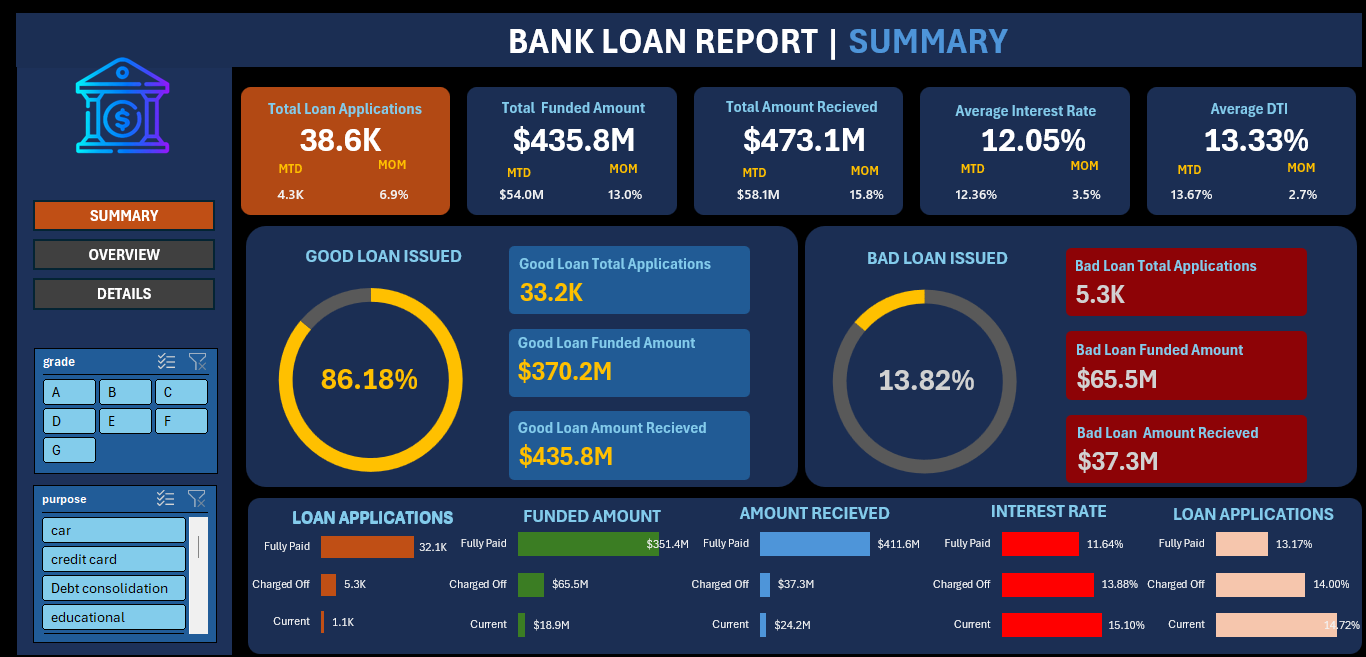

Layout of this report page (visuals, bound fields, positions):
{"tool":"powerbi","page":{"name":"Summary","canvas":[1920,1080],"ordinal":0},"visuals":[{"type":"shape","box":[0,0,1274.6,55.7],"z":0},{"type":"shape","box":[639.3,56,192.8,124],"z":0,"group":"g3"},{"type":"shape","box":[859.7,56,192.8,124],"z":0,"group":"g4"},{"type":"shape","box":[198.5,56.9,195,126.4],"z":0,"group":"g1"},{"type":"shape","box":[413,58,192.8,124],"z":0,"group":"g2"},{"type":"shape","box":[1080.3,58.1,193.1,124],"z":0,"group":"g5"},{"type":"cardVisual","fields":{"Data":["bank_loan_data.Total Funded Amount"]},"box":[437.2,76.9,162.4,40.7],"z":1000,"group":"g2"},{"type":"cardVisual","fields":{"Data":["bank_loan_data.Avg DTI"]},"box":[1098.9,78,158,50.5],"z":1000,"group":"g5"},{"type":"cardVisual","fields":{"Data":["bank_loan_data.Total Amount Received"]},"box":[658.9,78.3,158.2,40.3],"z":1000,"group":"g3"},{"type":"cardVisual","fields":{"Data":["bank_loan_data.Total Loan Applications"]},"box":[230.9,78.8,122.6,41.2],"z":1000,"group":"g1"},{"type":"cardVisual","fields":{"Data":["bank_loan_data.Avg Interest Rate"]},"box":[876.3,84.9,157.7,40.3],"z":1000,"group":"g4"},{"type":"shape","box":[201.5,195.4,522,260],"z":1000},{"type":"shape","box":[0,54.7,192,665],"z":2000},{"type":"textbox","box":[437.3,56.6,174.8,32],"z":2000,"group":"g2"},{"type":"textbox","box":[657.7,60.2,174.8,32],"z":2000,"group":"g3"},{"type":"textbox","box":[878.1,60.2,174.8,32],"z":2000,"group":"g4"},{"type":"textbox","box":[1115.8,60.4,123.1,24.4],"z":2000,"group":"g5"},{"type":"textbox","box":[217.1,61.2,176.7,32.7],"z":2000,"group":"g1"},{"type":"cardVisual","title":"MTD","fields":{"Data":["bank_loan_data.MTD Funded Amount"]},"box":[417.1,120.6,100.1,56.8],"z":3000,"group":"g2"},{"type":"cardVisual","title":"MTD","fields":{"Data":["bank_loan_data.MTD Total Amount Received"]},"box":[637.5,124.2,100.1,56.8],"z":3000,"group":"g3"},{"type":"cardVisual","title":"MTD","fields":{"Data":["bank_loan_data.MTD Avg Int Rate"]},"box":[857.9,124.2,100.1,56.8],"z":3000,"group":"g4"},{"type":"cardVisual","title":"MTD","fields":{"Data":["bank_loan_data.MTD Loan Applications"]},"box":[216.6,125.3,71.1,58.8],"z":3000,"group":"g1"},{"type":"cardVisual","title":"MTD","fields":{"Data":["bank_loan_data.MTD Avg DTI"]},"box":[1078.4,126.3,100.2,56.8],"z":3000,"group":"g5"},{"type":"cardVisual","fields":{"Data":["bank_loan_data.Good Loan %"]},"box":[243.1,310.8,141.1,48.9],"z":3000},{"type":"textbox","box":[416.7,7.8,492.2,46.7],"z":4000},{"type":"cardVisual","title":"MOM","fields":{"Data":["bank_loan_data.MoM Total Funded Amount"]},"box":[526.4,122.4,75.3,58.1],"z":4000,"group":"g2"},{"type":"cardVisual","title":"MOM","fields":{"Data":["bank_loan_data.MoM Loan Application"]},"box":[305.5,125.3,68.9,55.2],"z":4000,"group":"g1"},{"type":"cardVisual","title":"MOM","fields":{"Data":["bank_loan_data.MoM Total Amount Recieved"]},"box":[746.9,125.9,75.3,58.1],"z":4000,"group":"g3"},{"type":"cardVisual","title":"MOM","fields":{"Data":["bank_loan_data.MoM Avg Int Rate"]},"box":[967.3,125.9,75.3,58.1],"z":4000,"group":"g4"},{"type":"cardVisual","title":"MOM","fields":{"Data":["bank_loan_data.MoM Avg DTI"]},"box":[1187.9,128,75.5,58.1],"z":4000,"group":"g5"},{"type":"donutChart","fields":{"Category":["bank_loan_data.Good v Bad Loan"],"Y":["bank_loan_data.Total Loan Applications"]},"box":[187.7,220,250,230],"z":5000},{"type":"group","id":"g1","title":"Group 1","box":[198.5,56.9,195.4,128],"z":6000},{"type":"group","id":"g2","title":"Group 1","box":[413,56.6,199.1,125.5],"z":7000},{"type":"group","id":"g3","title":"Group 1","box":[637.5,56,195,128],"z":8000},{"type":"group","id":"g4","title":"Group 1","box":[857.9,56,195,128],"z":9000},{"type":"group","id":"g5","title":"Group 1","box":[1078.4,58.1,195,128],"z":10000},{"type":"shape","box":[753.8,195.4,522,260],"z":11000},{"type":"textbox","box":[221.5,210.8,198.5,40],"z":12000},{"type":"cardVisual","fields":{"Data":["bank_loan_data.Good Loan Applications","bank_loan_data.Good Loan Funded Amount","bank_loan_data.Good Loan Revceived Amount"]},"box":[429.2,196.9,293.8,258.5],"z":13000},{"type":"donutChart","fields":{"Category":["bank_loan_data.Good v Bad Loan"],"Y":["bank_loan_data.Total Loan Applications"]},"box":[755.4,220,250,230],"z":14000},{"type":"textbox","box":[786.2,210.8,203.1,40],"z":15000},{"type":"cardVisual","fields":{"Data":["bank_loan_data.Bad Loan %"]},"box":[809.2,310.8,141.1,48.9],"z":16000},{"type":"shape","box":[198.8,465.4,1077.8,254.3],"z":17000},{"type":"cardVisual","fields":{"Data":["bank_loan_data.Bad Loan Applications","bank_loan_data.Bad Loan Funded Amount","bank_loan_data.Bad Loan Revceived Amount"]},"box":[981.5,195.4,293.8,258.5],"z":18000},{"type":"tableEx","fields":{"Values":["bank_loan_data.loan_status","bank_loan_data.Total Loan Applications","bank_loan_data.Total Funded Amount","bank_loan_data.Total Amount Received","bank_loan_data.MTD Funded Amount","bank_loan_data.MTD Total Amount Received","bank_loan_data.Avg Interest Rate","bank_loan_data.Avg DTI"]},"box":[187.7,503.7,1106.2,216],"z":19000},{"type":"textbox","box":[216,486.4,97.5,27.2],"z":20000},{"type":"slicer","fields":{"Values":["bank_loan_data.address_state"]},"box":[20,434.9,152.2,37.8],"z":21000},{"type":"textbox","box":[27.8,410,47.8,24.4],"z":22000},{"type":"slicer","fields":{"Values":["bank_loan_data.grade"]},"box":[20,528,152.2,37.8],"z":23000},{"type":"textbox","box":[27.8,503.3,47.8,24.4],"z":24000},{"type":"slicer","fields":{"Values":["bank_loan_data.purpose"]},"box":[20,624.4,152.2,37.8],"z":25000},{"type":"textbox","box":[27.8,600,47.8,24.4],"z":26000},{"type":"image","box":[18.3,46.5,146.5,107],"z":27000},{"type":"pageNavigator","box":[9.9,177.5,162,149.3],"z":28000}]}

Visuals, with their boxes on the page's 1920x1080 design canvas (x1, y1, x2, y2). These are canvas units, not pixel positions in the 1366x657 screenshot, which may show the page scaled, cropped or inside an application window:
shape: x1=0 y1=0 x2=1275 y2=56
shape: x1=639 y1=56 x2=832 y2=180
shape: x1=860 y1=56 x2=1052 y2=180
shape: x1=198 y1=57 x2=394 y2=183
shape: x1=413 y1=58 x2=606 y2=182
shape: x1=1080 y1=58 x2=1273 y2=182
cardVisual - bank_loan_data.Total Funded Amount: x1=437 y1=77 x2=600 y2=118
cardVisual - bank_loan_data.Avg DTI: x1=1099 y1=78 x2=1257 y2=128
cardVisual - bank_loan_data.Total Amount Received: x1=659 y1=78 x2=817 y2=119
cardVisual - bank_loan_data.Total Loan Applications: x1=231 y1=79 x2=354 y2=120
cardVisual - bank_loan_data.Avg Interest Rate: x1=876 y1=85 x2=1034 y2=125
shape: x1=202 y1=195 x2=724 y2=455
shape: x1=0 y1=55 x2=192 y2=720
textbox: x1=437 y1=57 x2=612 y2=89
textbox: x1=658 y1=60 x2=832 y2=92
textbox: x1=878 y1=60 x2=1053 y2=92
textbox: x1=1116 y1=60 x2=1239 y2=85
textbox: x1=217 y1=61 x2=394 y2=94
"MTD" cardVisual: x1=417 y1=121 x2=517 y2=177
"MTD" cardVisual: x1=638 y1=124 x2=738 y2=181
"MTD" cardVisual: x1=858 y1=124 x2=958 y2=181
"MTD" cardVisual: x1=217 y1=125 x2=288 y2=184
"MTD" cardVisual: x1=1078 y1=126 x2=1179 y2=183
cardVisual - bank_loan_data.Good Loan %: x1=243 y1=311 x2=384 y2=360
textbox: x1=417 y1=8 x2=909 y2=54
"MOM" cardVisual: x1=526 y1=122 x2=602 y2=180
"MOM" cardVisual: x1=306 y1=125 x2=374 y2=180
"MOM" cardVisual: x1=747 y1=126 x2=822 y2=184
"MOM" cardVisual: x1=967 y1=126 x2=1043 y2=184
"MOM" cardVisual: x1=1188 y1=128 x2=1263 y2=186
donutChart - bank_loan_data.Good v Bad Loan x bank_loan_data.Total Loan Applications: x1=188 y1=220 x2=438 y2=450
"Group 1" group: x1=198 y1=57 x2=394 y2=185
"Group 1" group: x1=413 y1=57 x2=612 y2=182
"Group 1" group: x1=638 y1=56 x2=832 y2=184
"Group 1" group: x1=858 y1=56 x2=1053 y2=184
"Group 1" group: x1=1078 y1=58 x2=1273 y2=186
shape: x1=754 y1=195 x2=1276 y2=455
textbox: x1=222 y1=211 x2=420 y2=251
cardVisual - bank_loan_data.Good Loan Applications x bank_loan_data.Good Loan Funded Amount: x1=429 y1=197 x2=723 y2=455
donutChart - bank_loan_data.Good v Bad Loan x bank_loan_data.Total Loan Applications: x1=755 y1=220 x2=1005 y2=450
textbox: x1=786 y1=211 x2=989 y2=251
cardVisual - bank_loan_data.Bad Loan %: x1=809 y1=311 x2=950 y2=360
shape: x1=199 y1=465 x2=1277 y2=720
cardVisual - bank_loan_data.Bad Loan Applications x bank_loan_data.Bad Loan Funded Amount: x1=982 y1=195 x2=1275 y2=454
tableEx - bank_loan_data.loan_status x bank_loan_data.Total Loan Applications: x1=188 y1=504 x2=1294 y2=720
textbox: x1=216 y1=486 x2=314 y2=514
slicer - bank_loan_data.address_state: x1=20 y1=435 x2=172 y2=473
textbox: x1=28 y1=410 x2=76 y2=434
slicer - bank_loan_data.grade: x1=20 y1=528 x2=172 y2=566
textbox: x1=28 y1=503 x2=76 y2=528
slicer - bank_loan_data.purpose: x1=20 y1=624 x2=172 y2=662
textbox: x1=28 y1=600 x2=76 y2=624
image: x1=18 y1=46 x2=165 y2=154
pageNavigator: x1=10 y1=178 x2=172 y2=327
